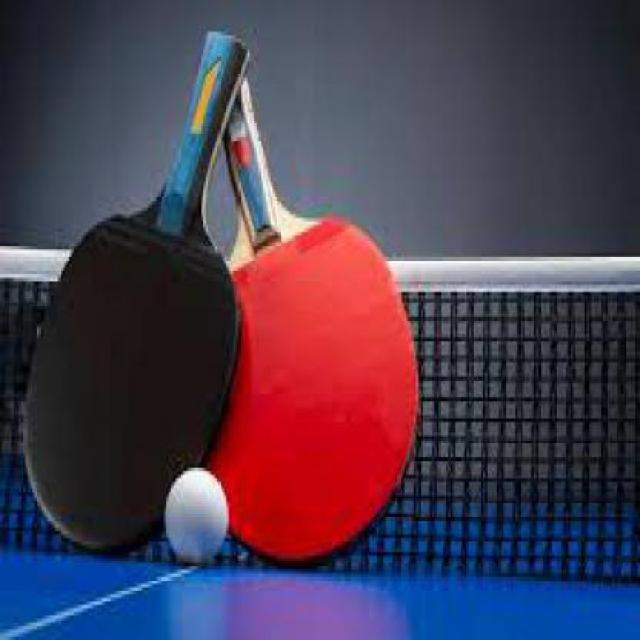table_tennis_racket: (16, 184, 236, 553), (210, 197, 421, 574)
